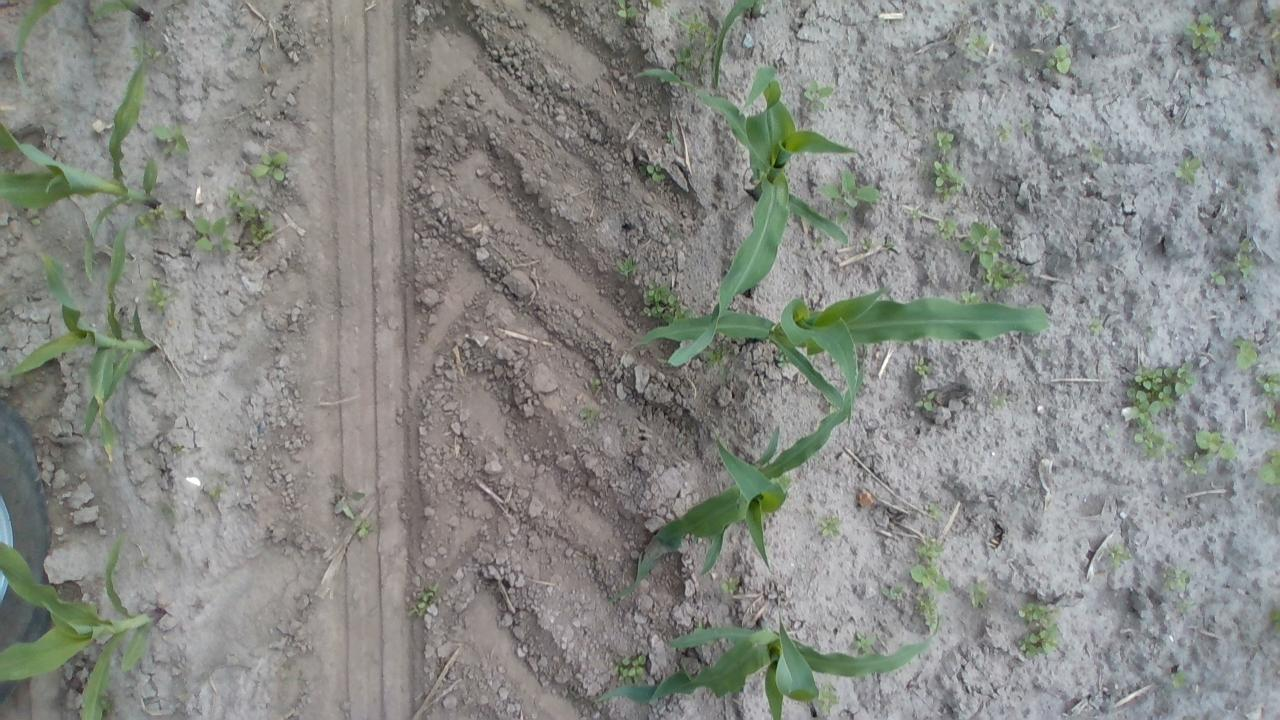Maize: (628, 270, 1053, 422), (634, 66, 852, 359), (627, 366, 866, 594), (0, 43, 165, 284), (591, 608, 939, 718), (5, 216, 160, 461), (0, 532, 167, 720), (702, 0, 761, 90), (16, 0, 56, 82), (88, 0, 148, 30)
Weeds: (1128, 363, 1202, 461), (956, 220, 1026, 288), (822, 169, 880, 222), (1016, 603, 1062, 655), (637, 279, 686, 318), (236, 206, 275, 246), (934, 154, 968, 197), (192, 216, 230, 253), (910, 563, 954, 593), (1192, 10, 1222, 52), (1196, 431, 1237, 461), (249, 148, 289, 178), (334, 479, 366, 515), (156, 119, 188, 153), (406, 586, 436, 616), (816, 684, 844, 716), (614, 651, 647, 677), (915, 594, 941, 626), (1172, 156, 1200, 184), (804, 79, 832, 107), (1236, 332, 1260, 364), (1259, 452, 1280, 488), (1234, 237, 1252, 276), (1048, 44, 1071, 74), (1160, 565, 1186, 591), (686, 16, 716, 38), (147, 278, 169, 308), (201, 480, 227, 504), (968, 579, 988, 606), (1258, 370, 1280, 394), (1262, 411, 1280, 440), (622, 256, 642, 282), (137, 207, 164, 225), (994, 122, 1016, 144), (1186, 451, 1210, 471), (1036, 2, 1057, 24), (916, 389, 936, 410), (915, 541, 945, 555), (884, 586, 908, 603), (1109, 541, 1125, 566), (130, 41, 152, 59), (937, 130, 956, 150), (645, 162, 664, 182), (924, 502, 941, 524), (850, 633, 869, 652), (822, 516, 842, 534), (1088, 144, 1106, 164), (618, 0, 638, 18), (226, 190, 246, 208), (718, 578, 740, 594), (672, 44, 694, 60), (1210, 268, 1228, 286), (1089, 316, 1105, 334), (940, 214, 954, 234), (1271, 603, 1280, 634), (711, 350, 728, 366), (974, 31, 988, 49), (356, 522, 371, 538), (1170, 670, 1184, 686), (578, 408, 592, 424), (916, 358, 929, 375), (964, 289, 982, 301), (1268, 8, 1280, 24), (993, 394, 1006, 407), (652, 0, 668, 9), (590, 376, 600, 388), (170, 446, 187, 452)
